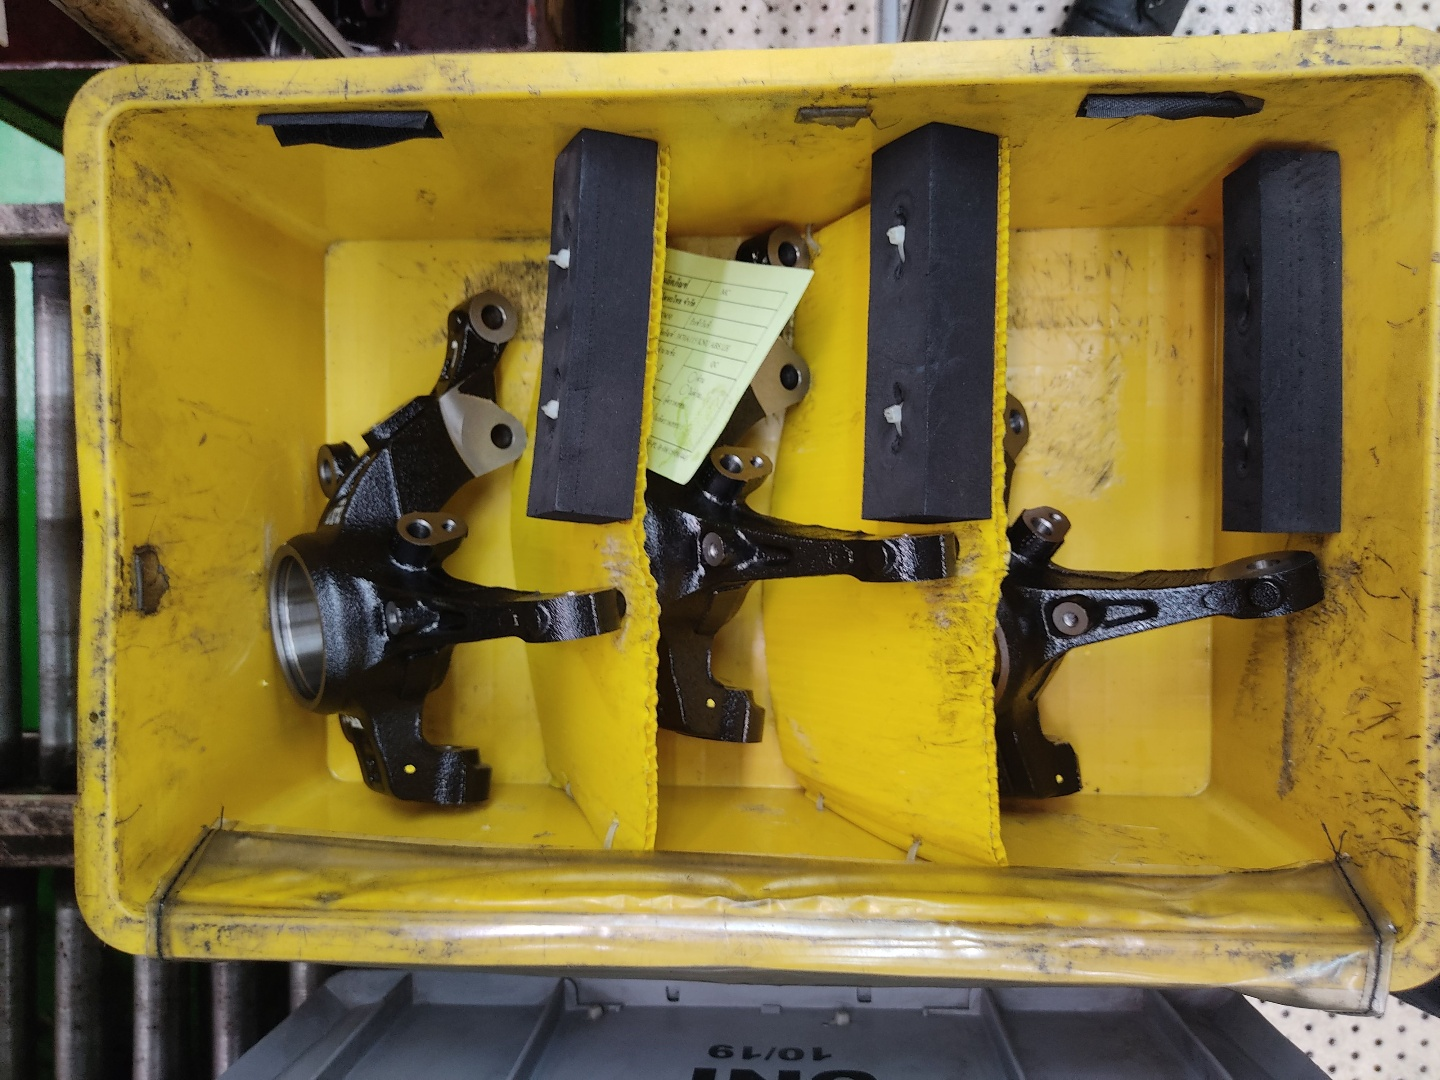abs-lh: (256, 280, 635, 824), (967, 314, 1340, 816), (642, 218, 964, 760)
